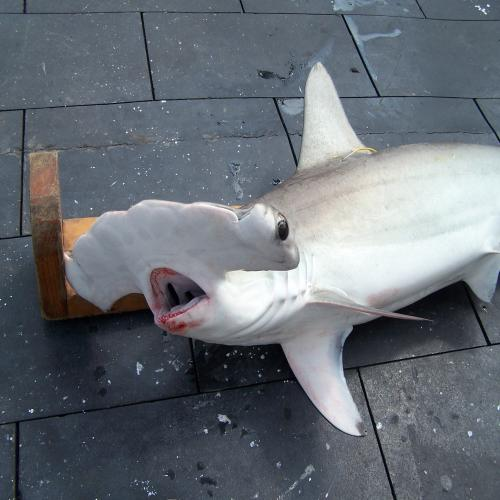shark-endangered: (64, 65, 500, 439)
